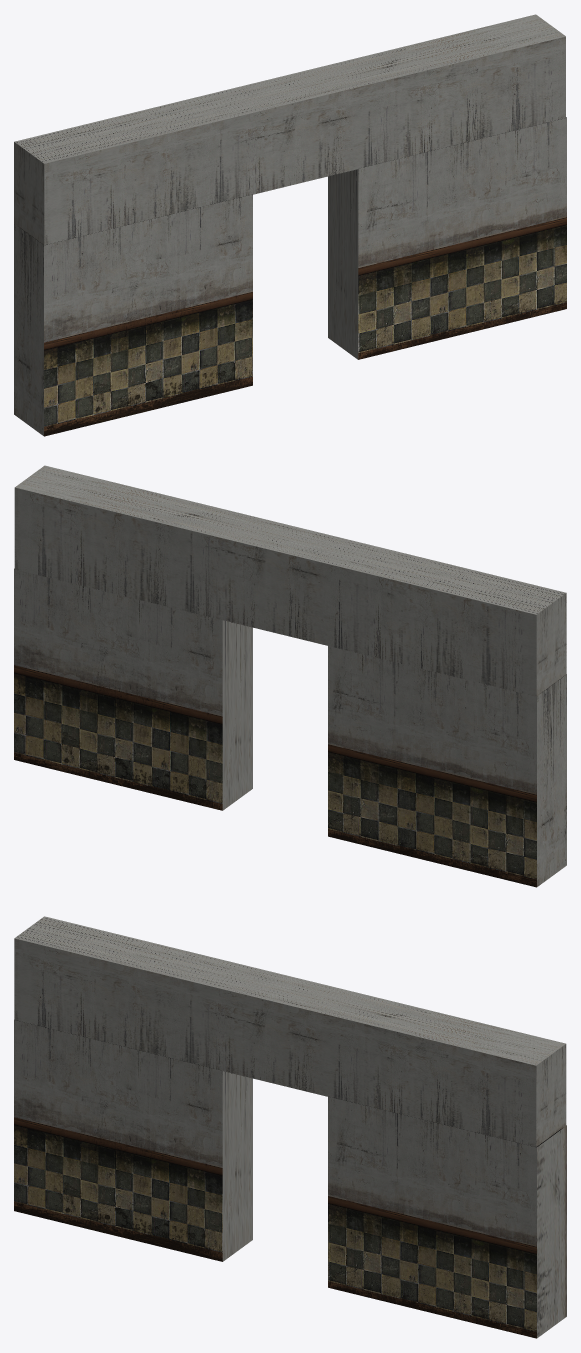
The model's file is WallDoorwayModel.fbx.
The picture shows the model from 3 angles, top to bottom: view 1: azimuth 30°, elevation 25°; view 2: azimuth 150°, elevation 25°; view 3: azimuth 330°, elevation 25°; orthographic projection.
Visible parts, largest first — view 1: pCube1, pCube2, pCube3; view 2: pCube1, pCube2, pCube3; view 3: pCube1, pCube3, pCube2.
Boxes of the visible parts, x1,y1,x2,y2 form: pCube1: [14, 14, 565, 245]; pCube2: [14, 194, 252, 436]; pCube3: [328, 117, 566, 359]; pCube1: [14, 465, 566, 696]; pCube2: [328, 646, 566, 887]; pCube3: [14, 568, 252, 810]; pCube1: [14, 916, 566, 1146]; pCube3: [328, 1096, 566, 1338]; pCube2: [14, 1020, 252, 1261].
Bounding box in the file's own units: 20.04 × 9.98 × 2.01.
Materials: 2 (2 with a texture image).
